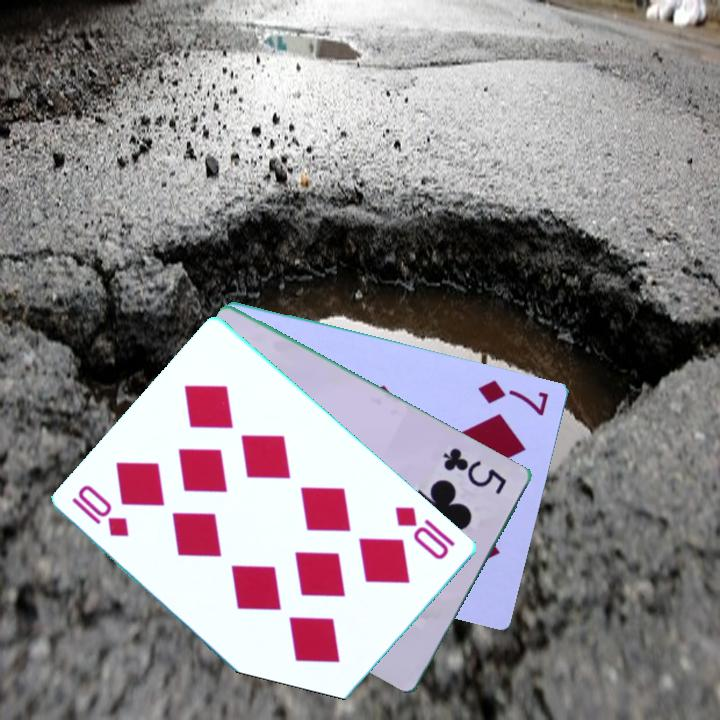10d: (391, 502, 458, 563), (68, 481, 133, 540)
5c: (440, 444, 510, 498)
7d: (474, 376, 552, 419)
